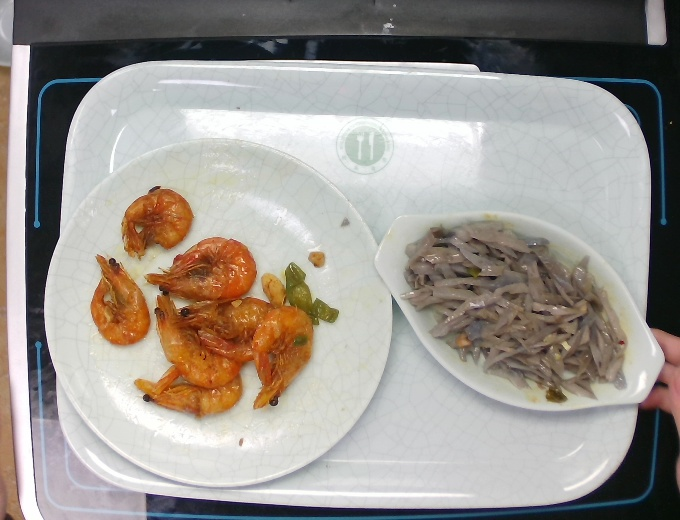JYsf-Da_Yuan_Pan: (41, 136, 395, 489)
JYsf-Yu_Pan: (371, 207, 667, 414)
